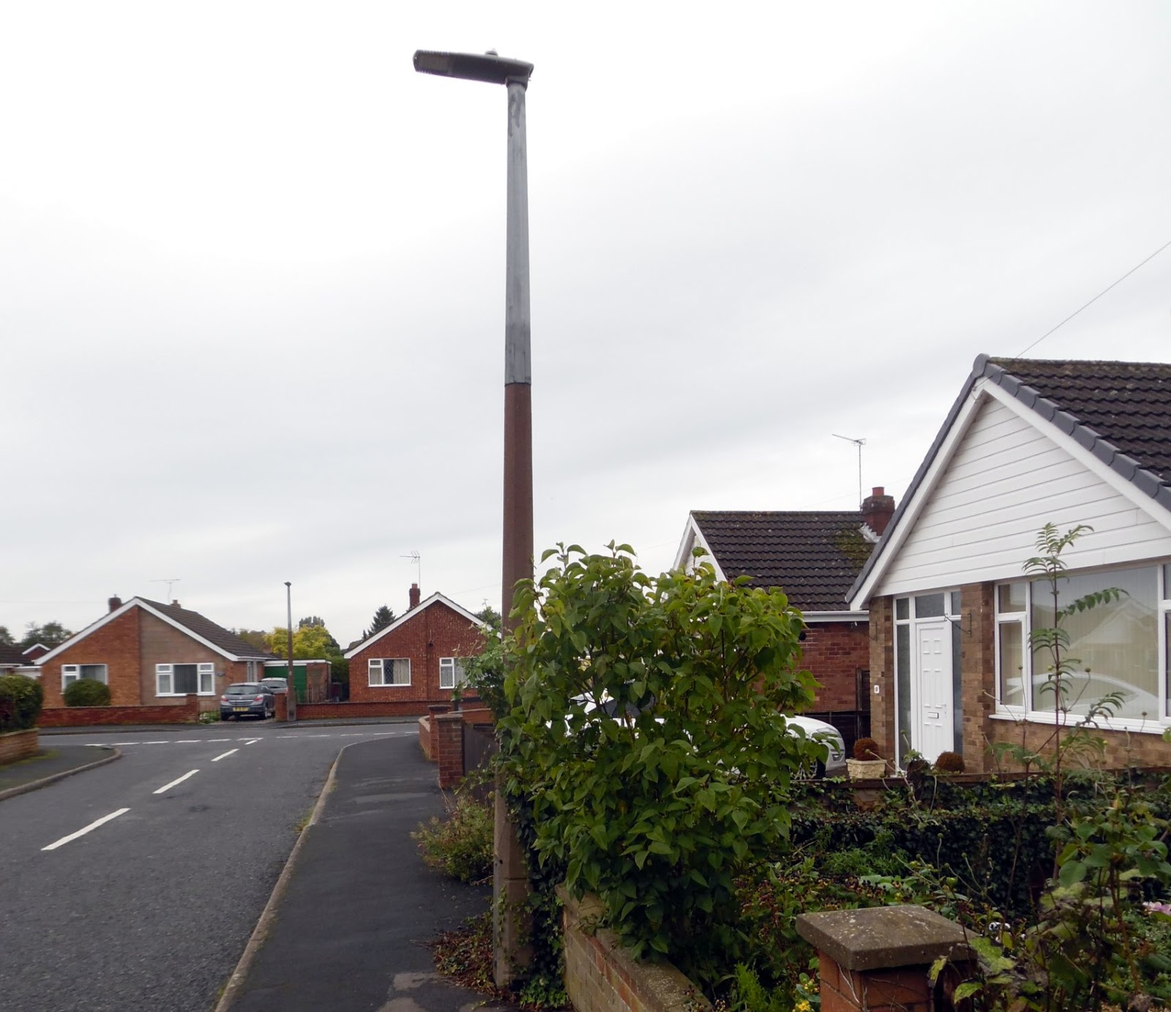light_pole: (486, 36, 543, 977)
